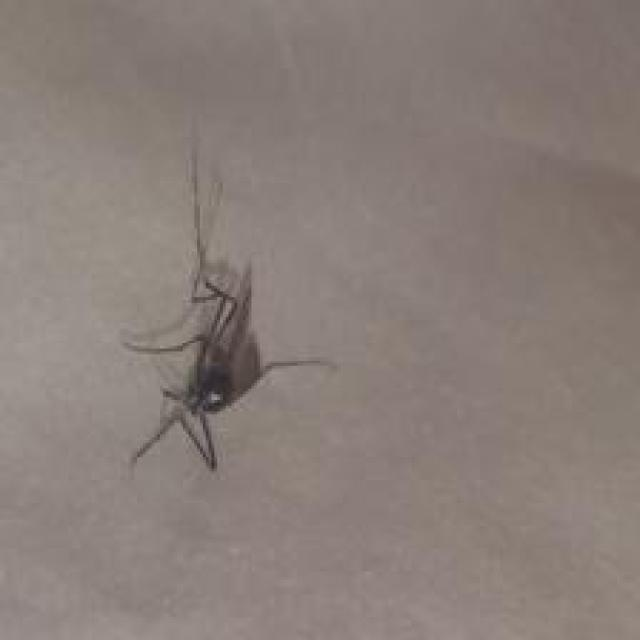Aedes albopictus: (120, 118, 337, 473)
